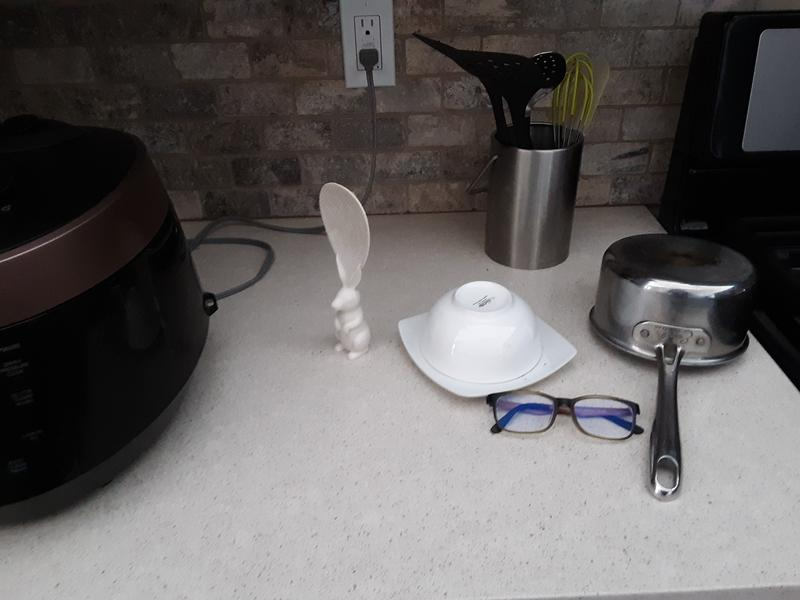glasses: (485, 388, 644, 441)
